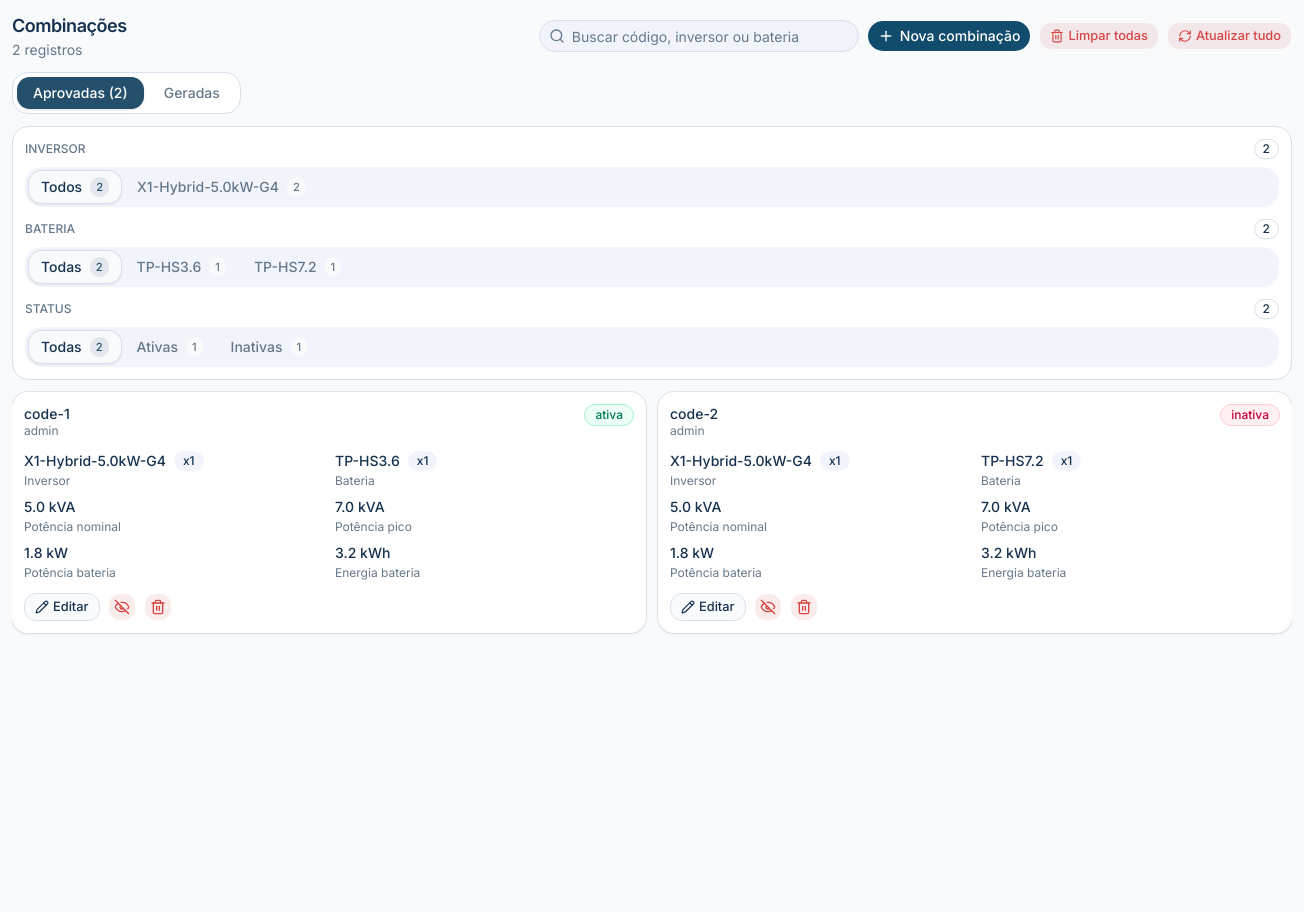
SolutionsEditor: Aprovadas listing › filters by battery and by status once an inverter is selected
The width and height of the screenshot is (1304, 912).
Click the button "TP-HS3.6 1": [181, 267] box [125,251,238,283]
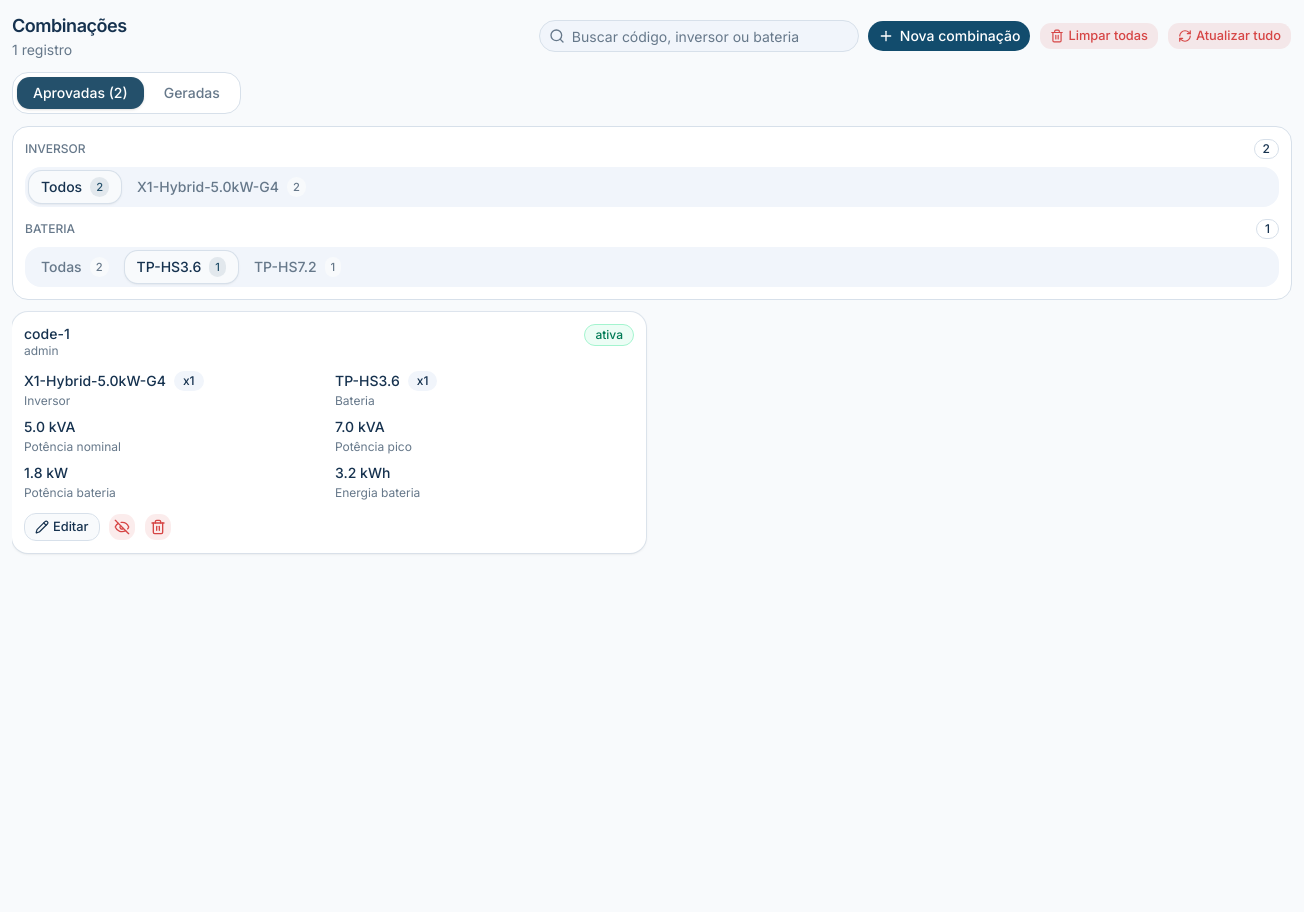
expect the text "code-1" is shown: met, box [24,324,70,343]
expect the text "code-2" is gone: met
Click the button "Todas 2": [75, 267] box [29,251,121,283]
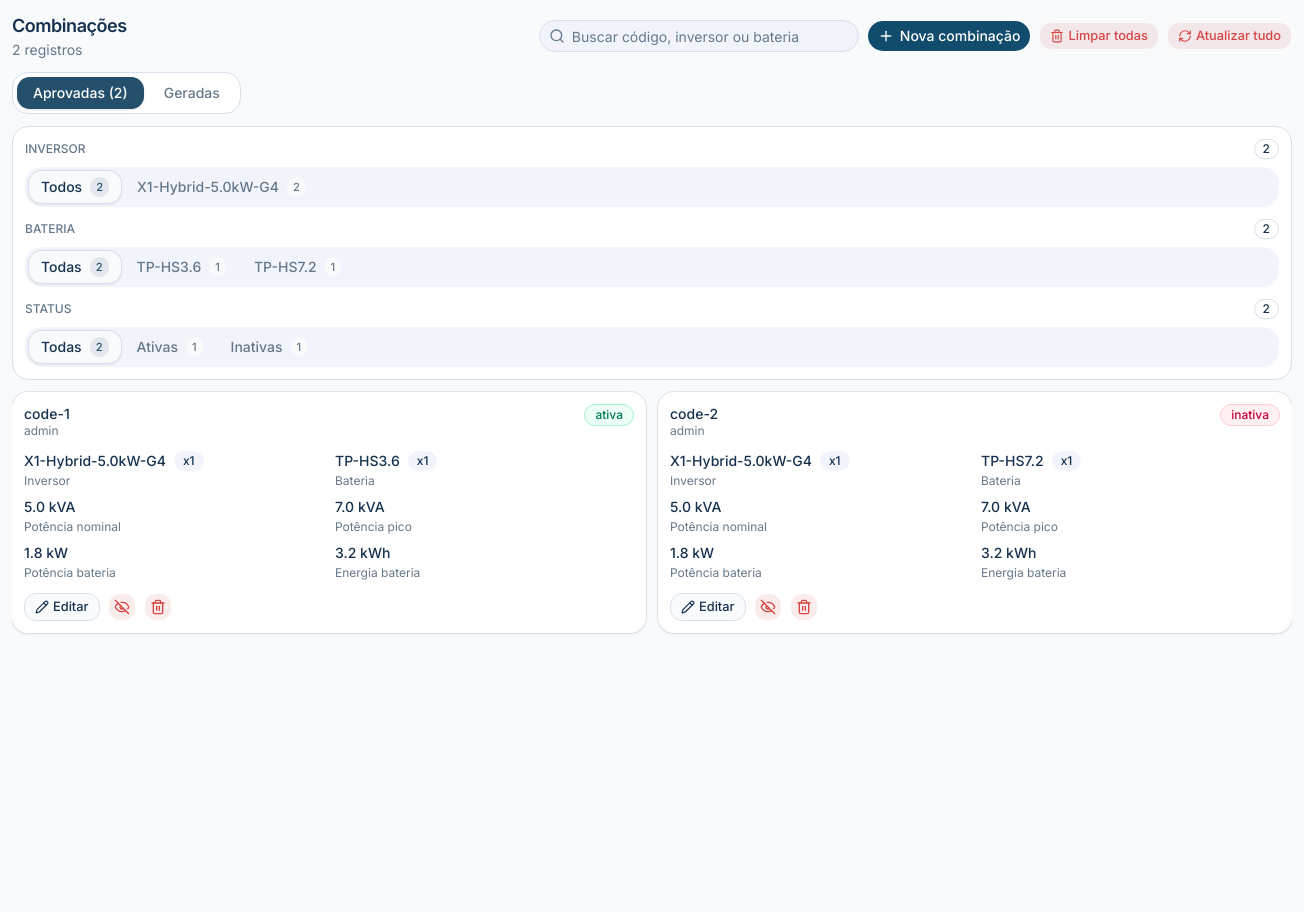
Click the button "Ativas 1": [170, 347] box [125,331,215,363]
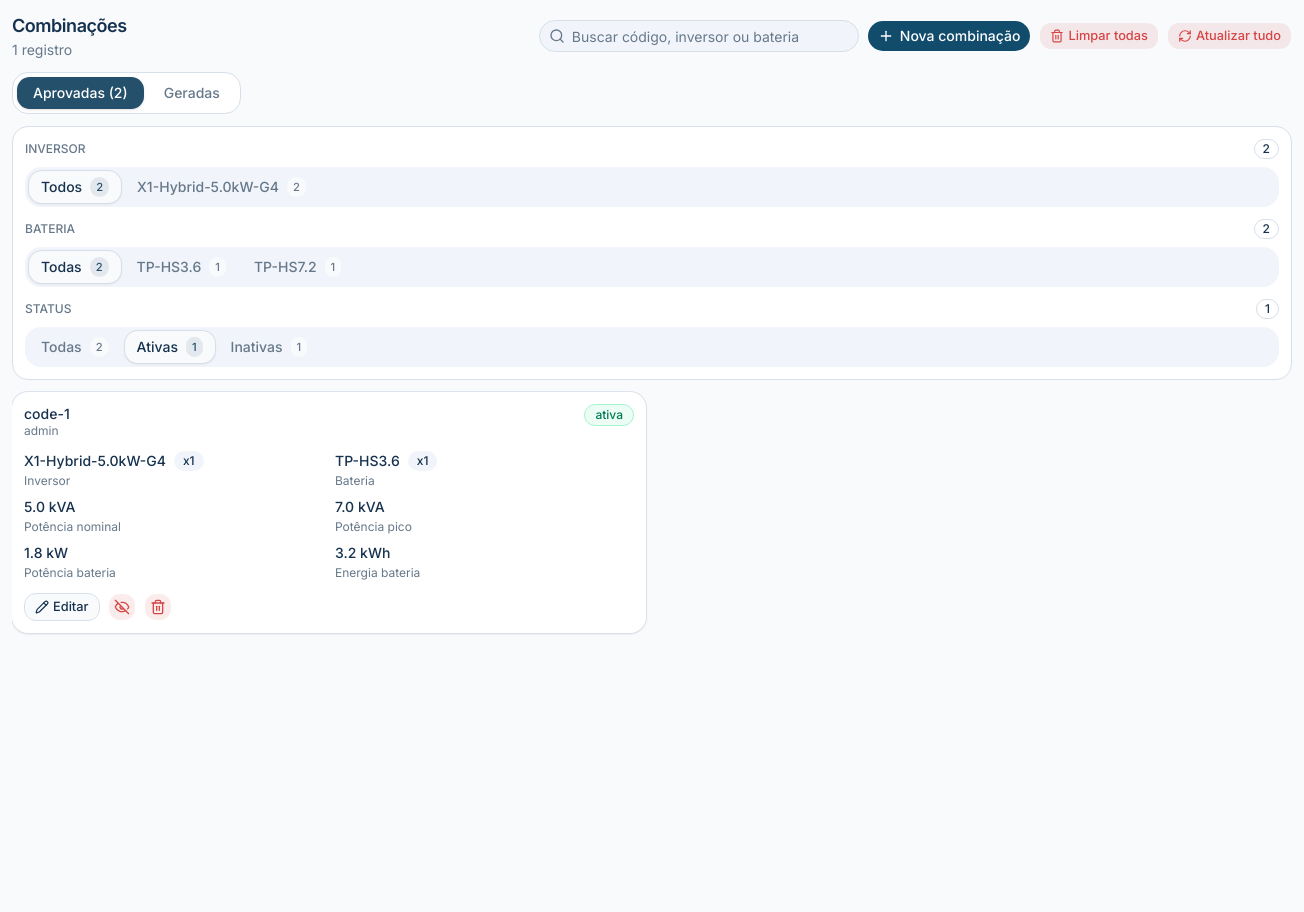
expect the text "code-1" is shown: met, box [24,404,70,423]
expect the text "code-2" is gone: met
Click the button "Inativas 1": [269, 347] box [219,331,319,363]
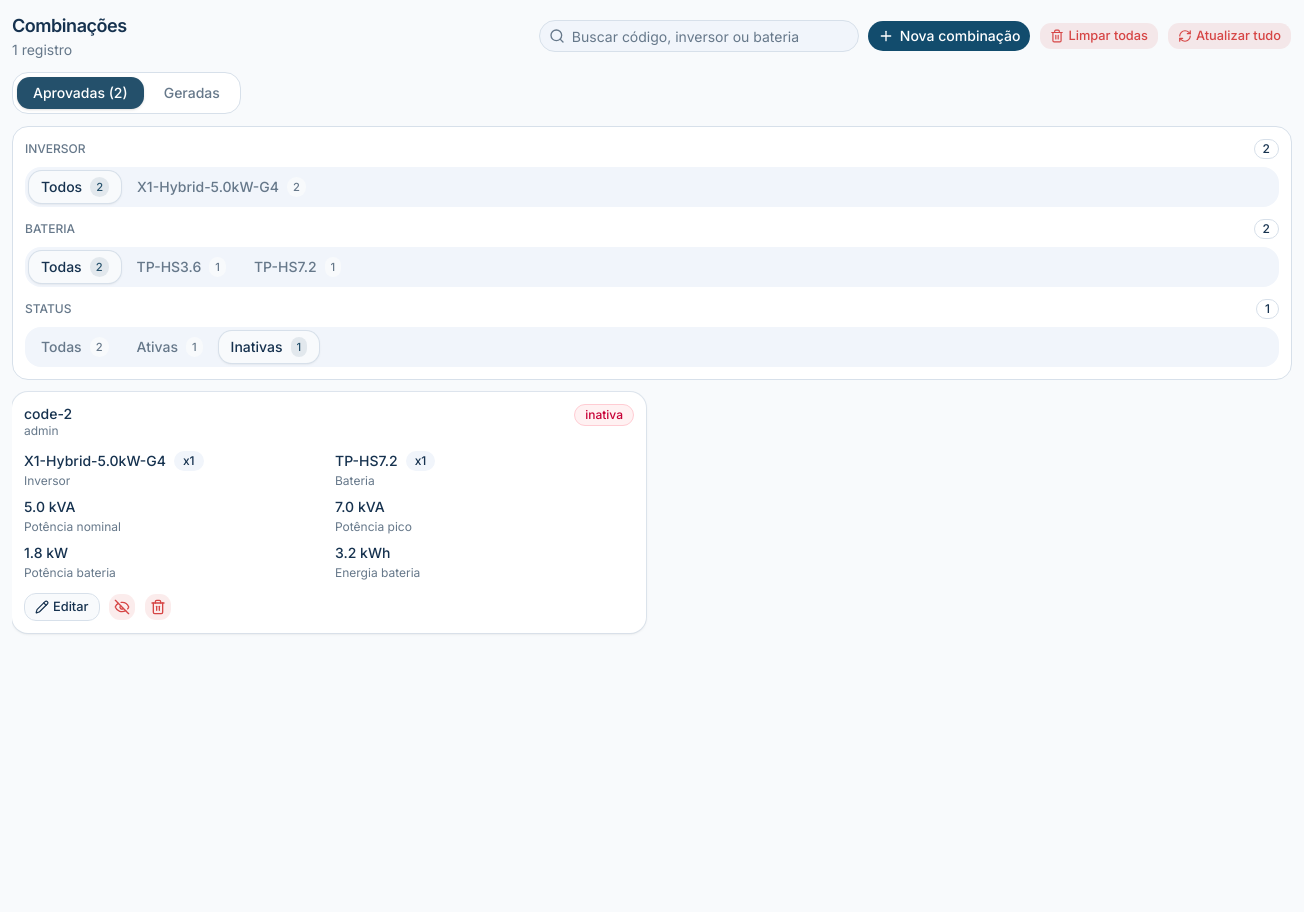
expect the text "code-2" is shown: met, box [24,404,72,423]
expect the text "code-1" is gone: met
